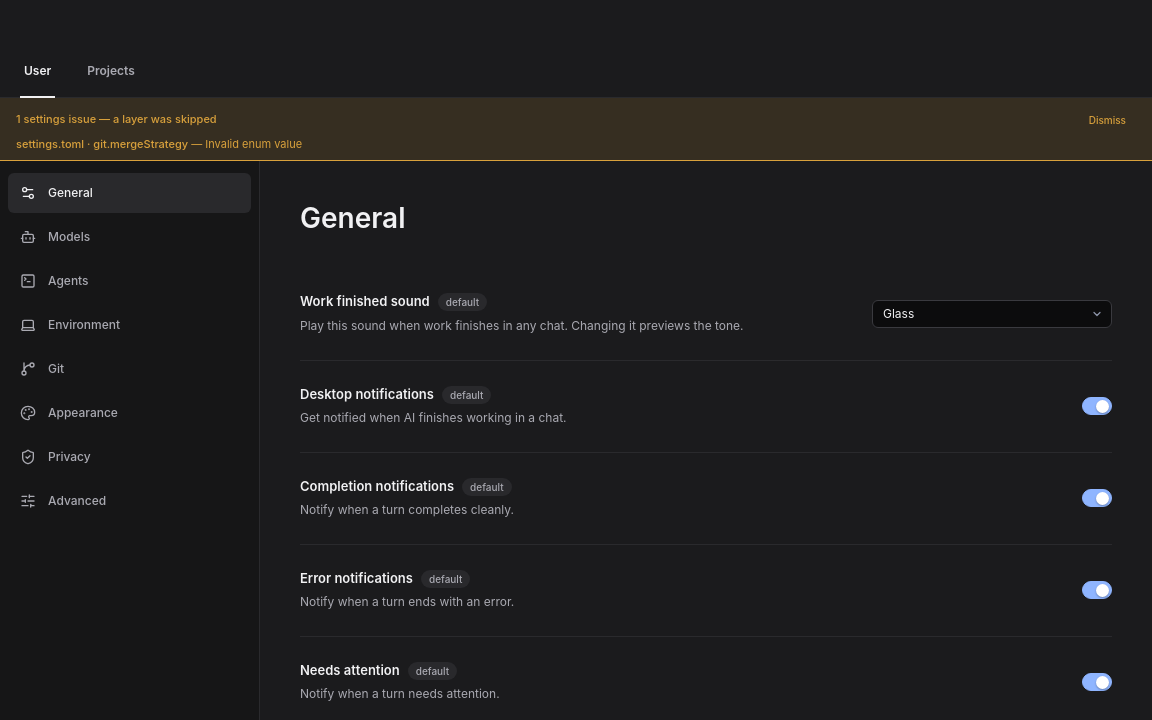
it: SettingsPanel validation issues banner › surfaces settings:getIssues rows and hides them on dismiss
Check: the element with test id "settings-issues" shows "git.mergeStrategy", box [84,137,188,151]
Check: the element with test id "settings-issues" shows "Invalid enum value", box [205,137,302,151]
Note: Dismiss removes the banner.
Click the button with test id "settings-issues-dismiss".
click(1107, 120)  # box [1079,106,1136,134]
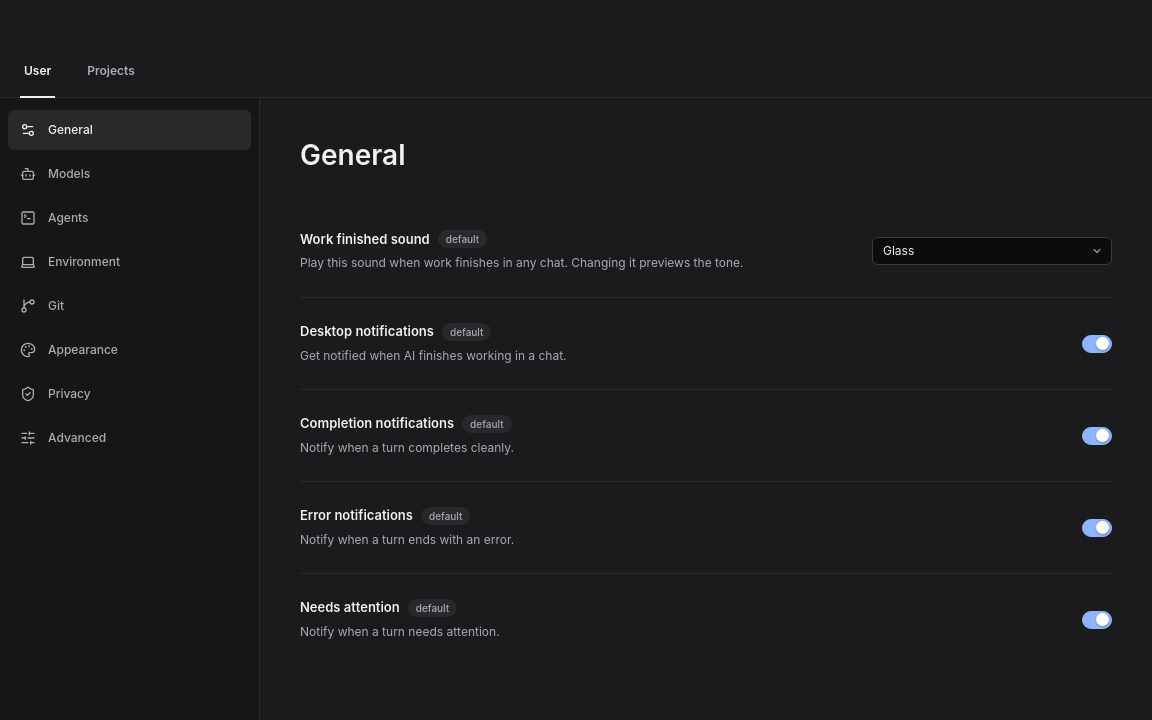
Check: the element with test id "settings-issues" is gone
